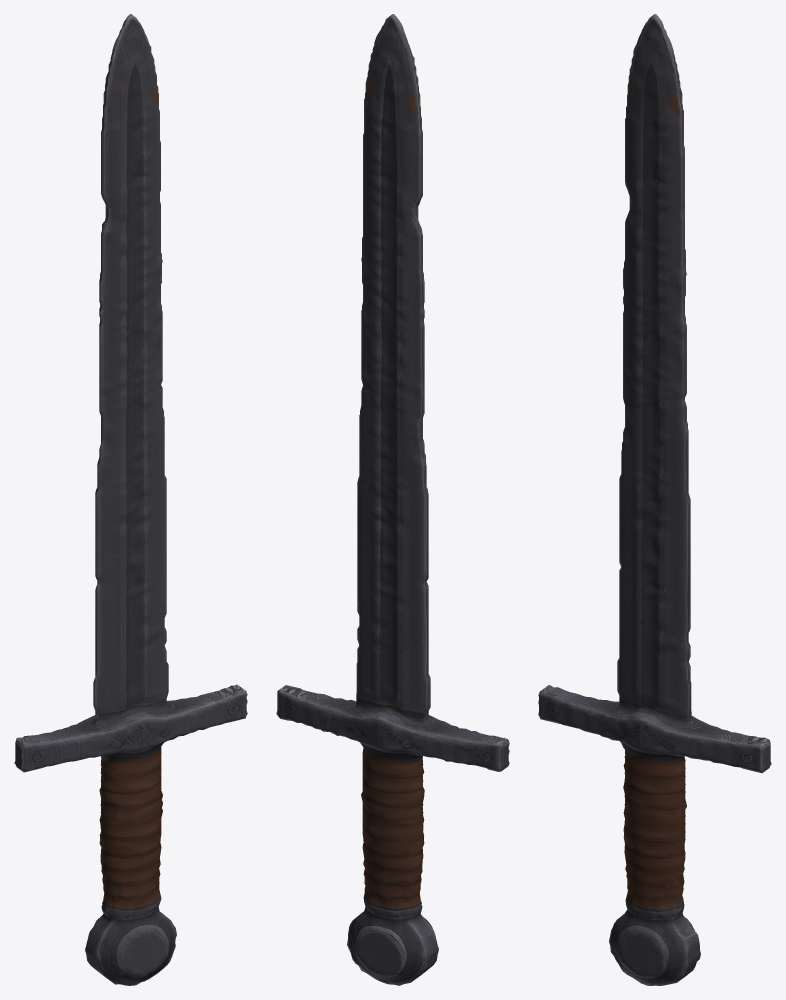
The model's file is sword_1h.glb.
The picture shows the model from 3 angles, left to right: view 1: azimuth 30°, elevation 25°; view 2: azimuth 150°, elevation 25°; view 3: azimuth 330°, elevation 25°; orthographic projection.
Bounding box in the file's own units: 0.4658 × 1.91 × 0.0978.
Materials: 1 (1 with a texture image).
